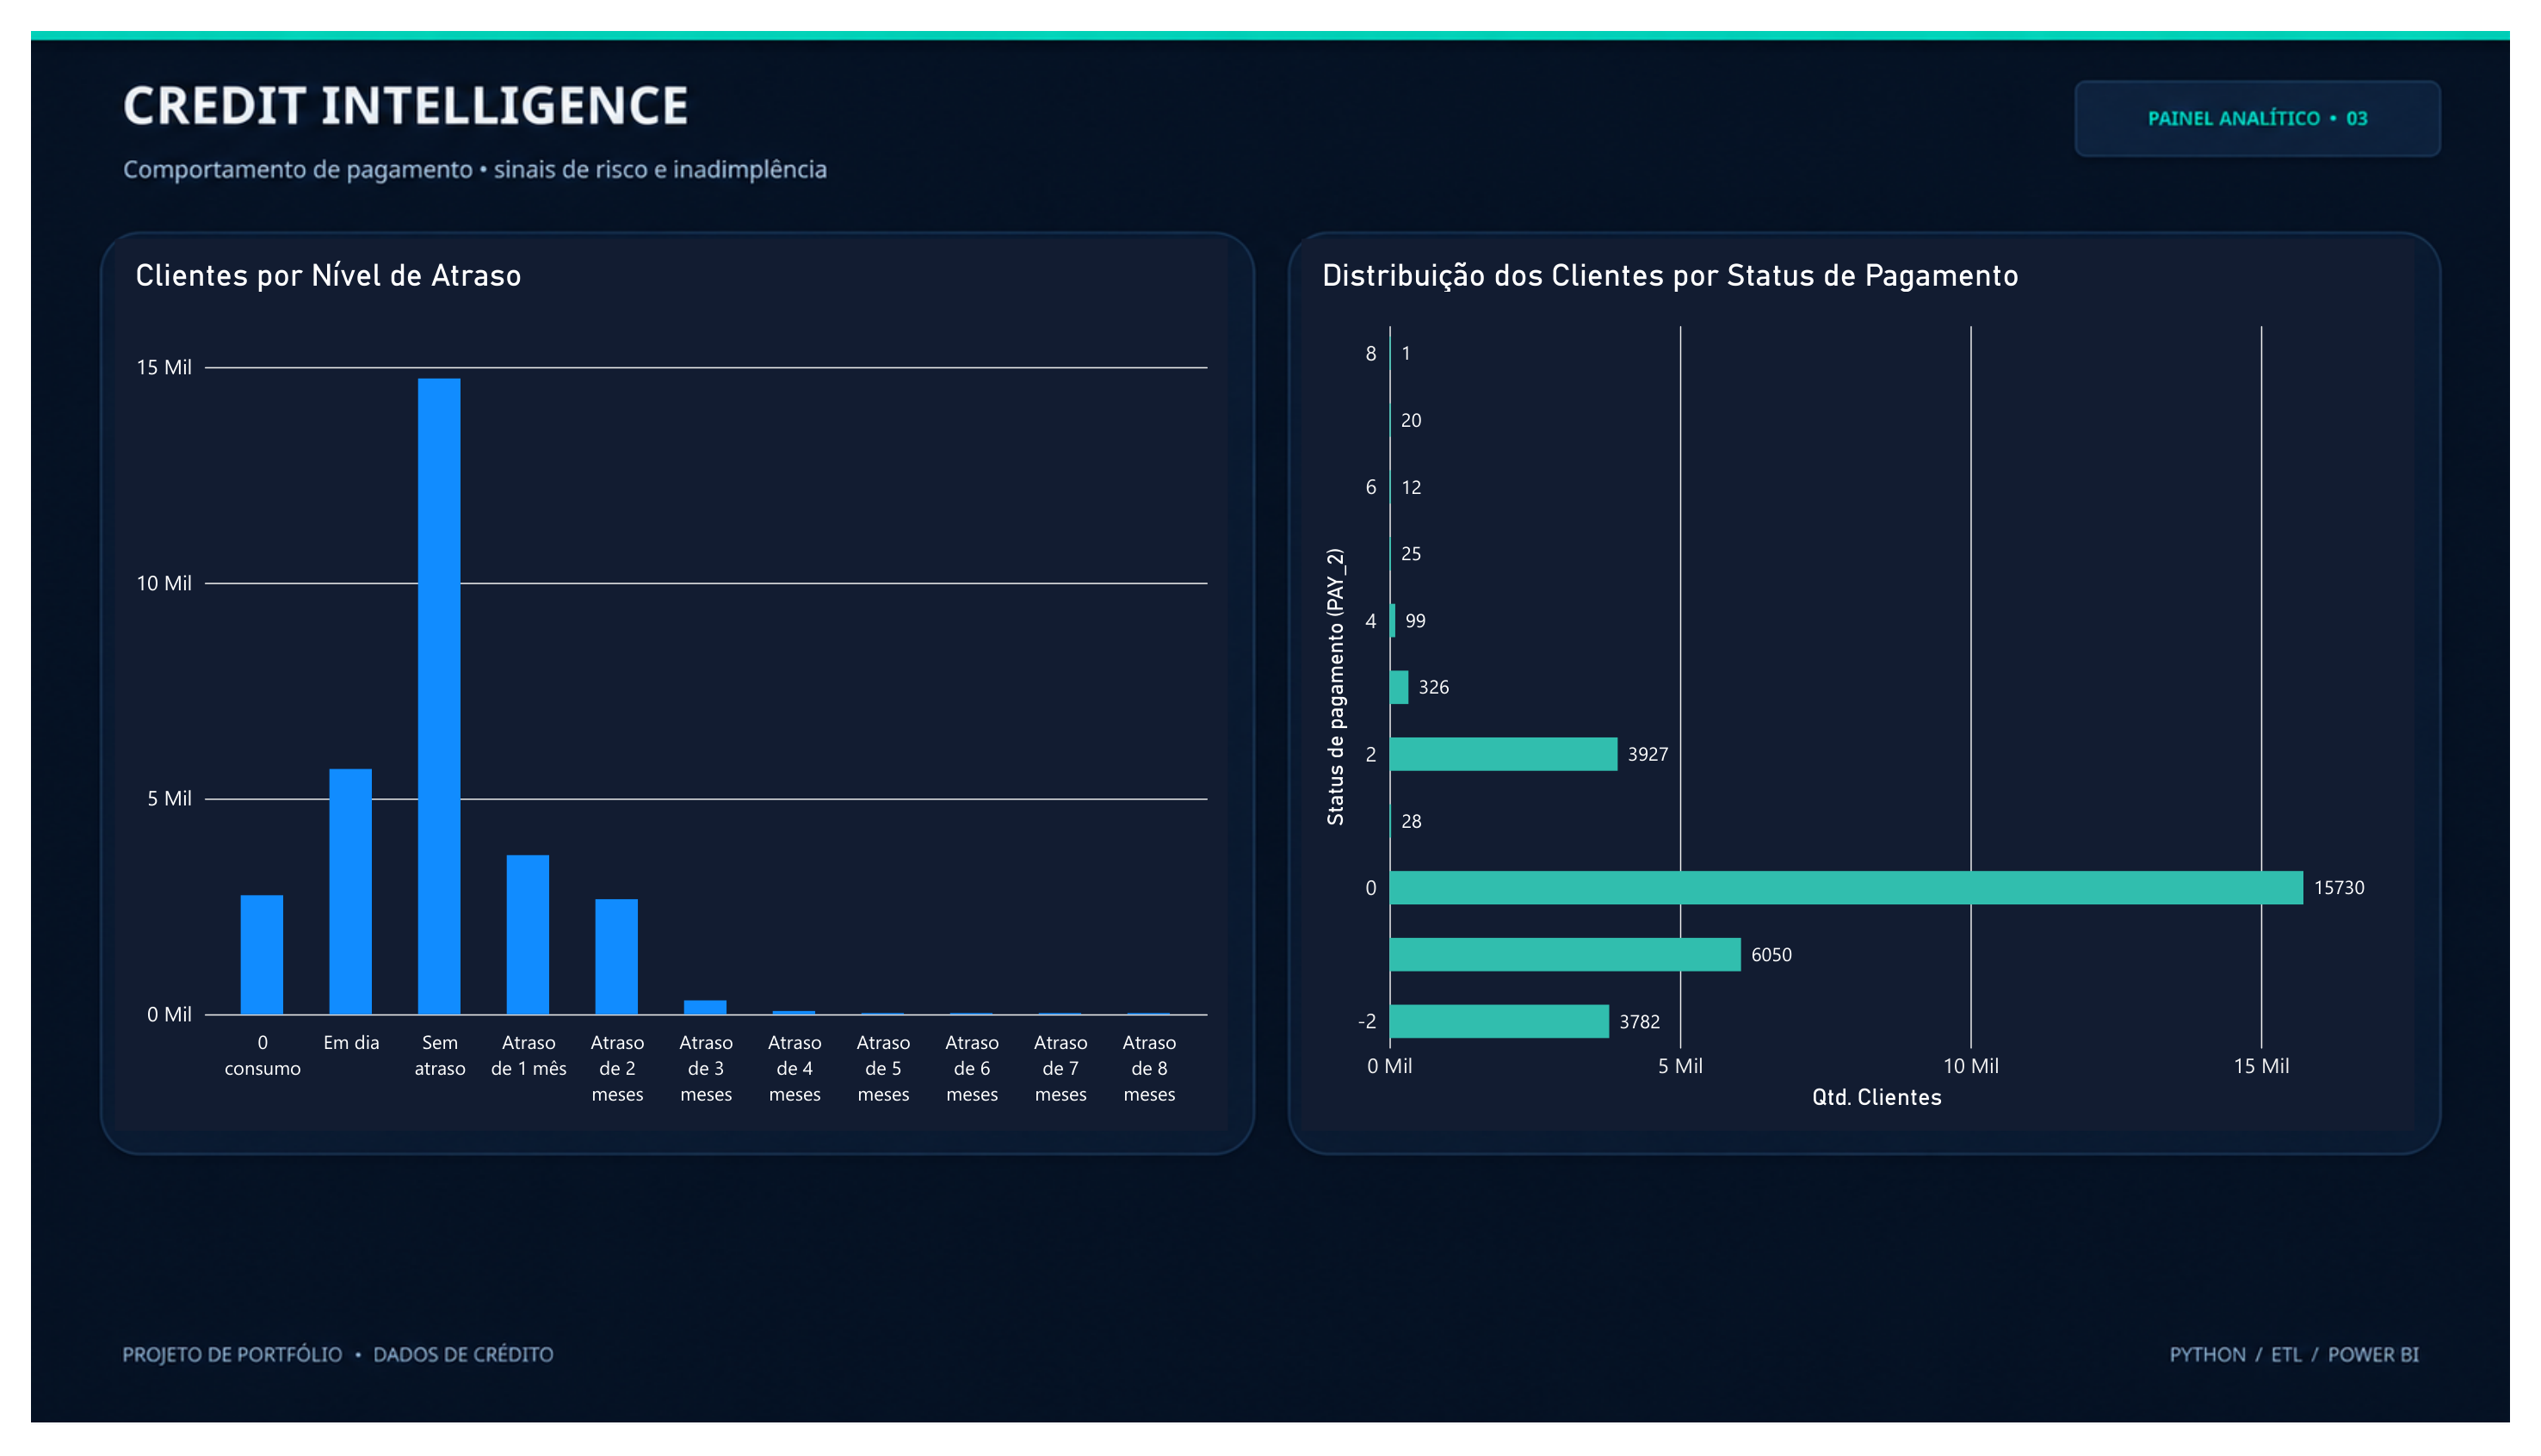

This screenshot's page, from the dashboard's own definition file:
{"tool":"powerbi","page":{"name":"Comportamento de Pagamento","canvas":[1920,1080],"ordinal":2},"visuals":[{"type":"lineClusteredColumnComboChart","title":"Clientes por Nível de Atraso","fields":{"Category":["default_of_credit_card_clients.Historico_Atraso"],"Y":["default_of_credit_card_clients.Total Clientes"]},"box":[65.1,161.1,861.4,691.3],"z":0},{"type":"clusteredBarChart","title":"Distribuição dos Clientes por Status de Pagamento","fields":{"Category":["default_of_credit_card_clients.pay_2"],"Y":["default_of_credit_card_clients.Total Clientes"]},"box":[984.5,161.1,861.4,691.3],"z":1000}]}

Visuals, with their boxes in screenshot pixels (x1, y1, x2, y2), scaled from the page's 1920x1080 canvas onto the 2541x1456 screenshot:
"Clientes por Nível de Atraso" lineClusteredColumnComboChart: {"x1": 86, "y1": 217, "x2": 1226, "y2": 1149}
"Distribuição dos Clientes por Status de Pagamento" clusteredBarChart: {"x1": 1303, "y1": 217, "x2": 2443, "y2": 1149}
